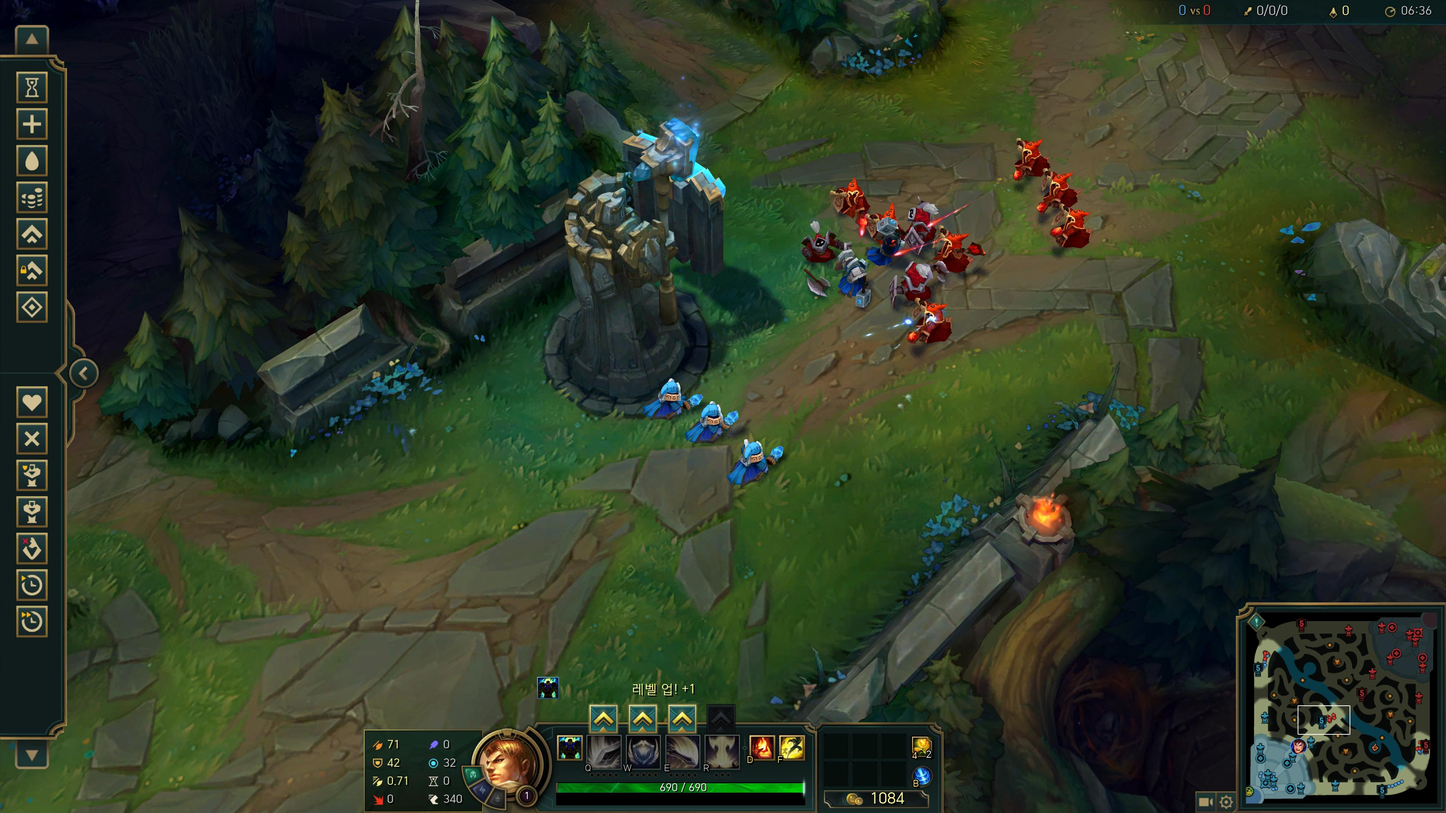ally-caster-minion: (728, 438, 784, 485), (642, 378, 703, 417), (686, 401, 739, 442)
ally-melee-minion: (867, 203, 903, 264), (837, 247, 872, 308)
enemy-caster-minion: (831, 177, 871, 235), (935, 229, 985, 272), (908, 298, 953, 342), (1038, 170, 1079, 211), (1014, 136, 1052, 178), (1052, 207, 1092, 246)
enemy-melee-minion: (890, 260, 949, 307), (903, 199, 943, 252)
